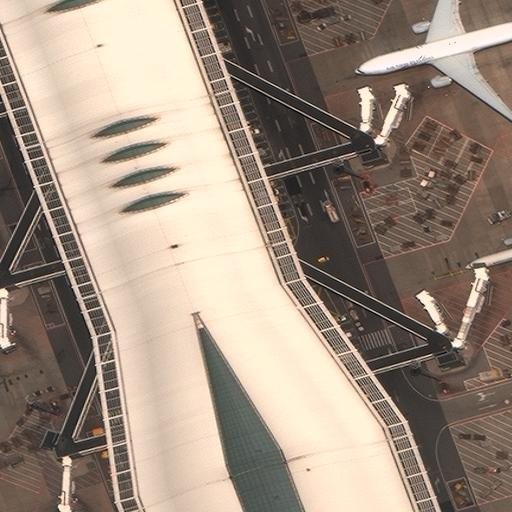Large Civil Transport: (355, 0, 512, 121), (464, 201, 512, 281)
